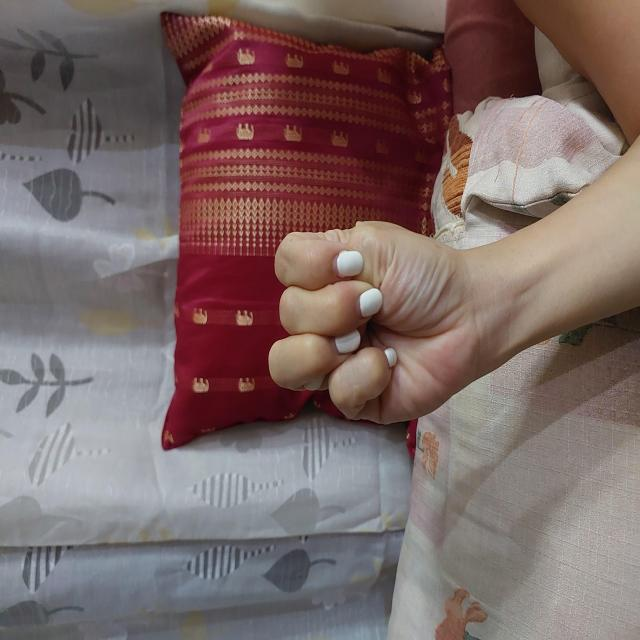M: (215, 266, 422, 482)
